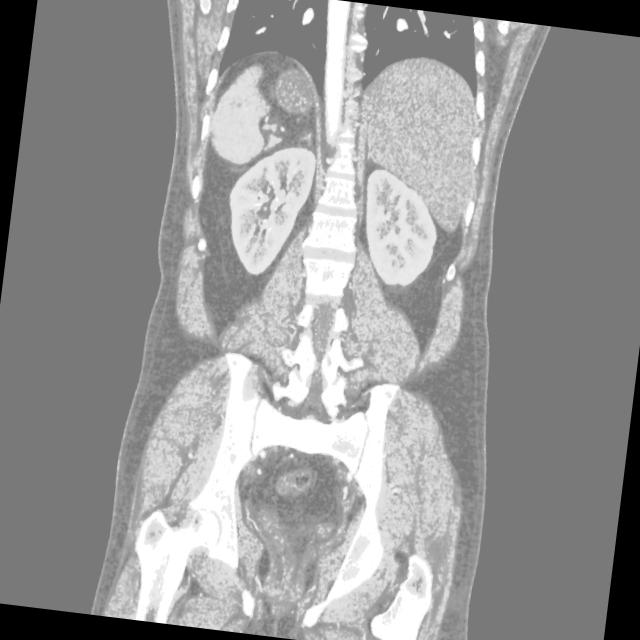NORMAL: (75, 20, 562, 565)
